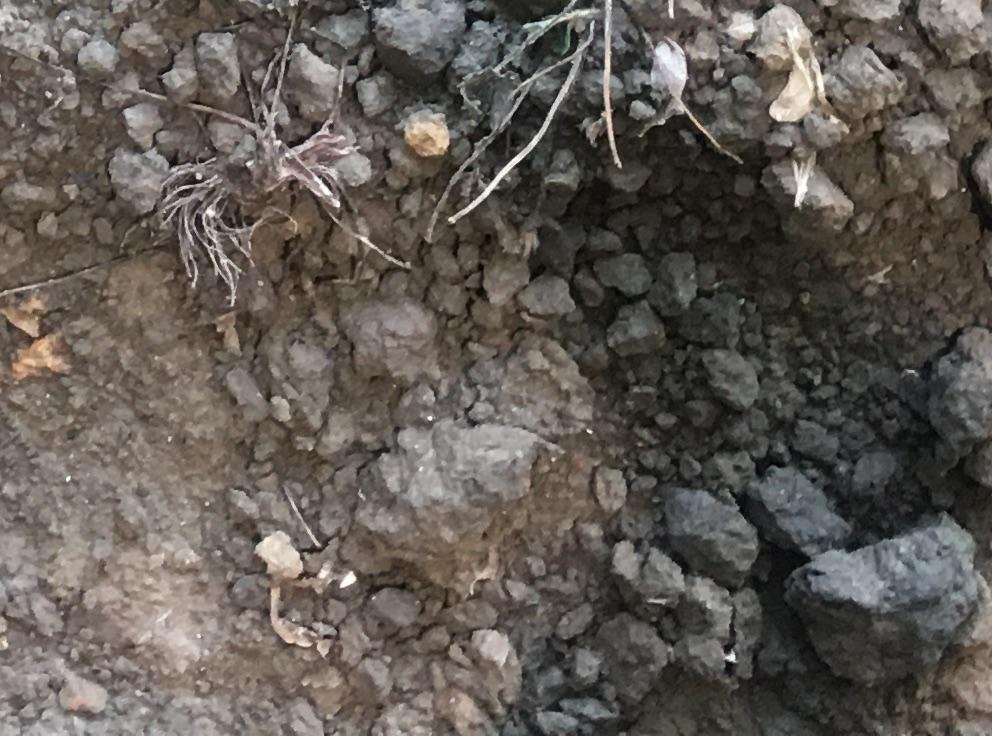block: (781, 517, 989, 688), (350, 427, 541, 595)
